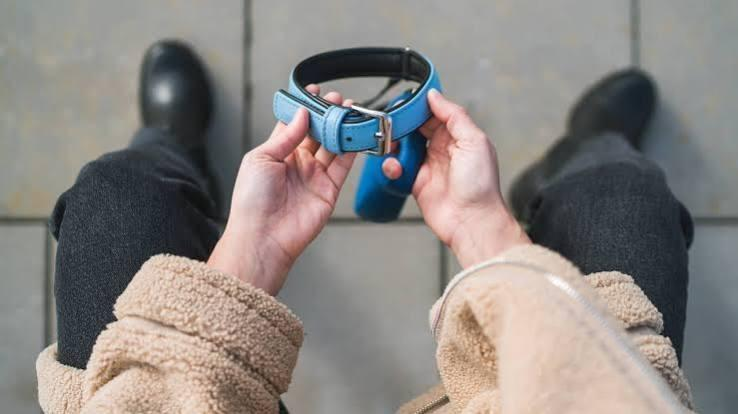non-dog: (36, 42, 696, 408)
